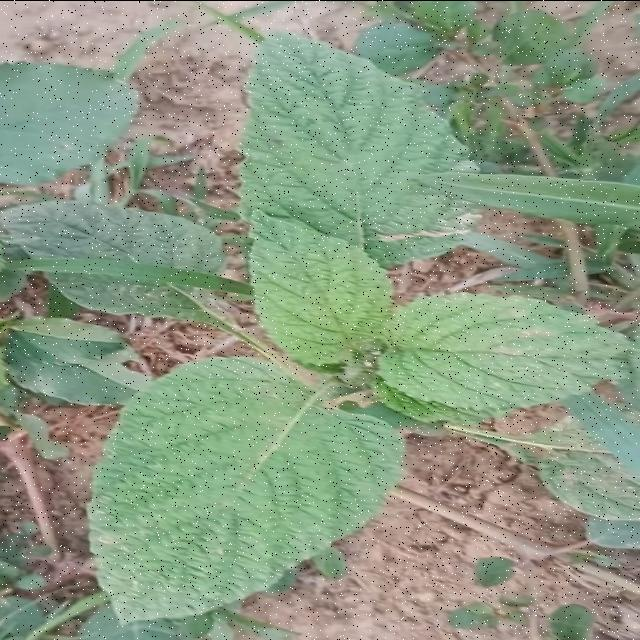weed: (240, 32, 632, 422), (88, 356, 403, 621), (2, 200, 222, 272)
